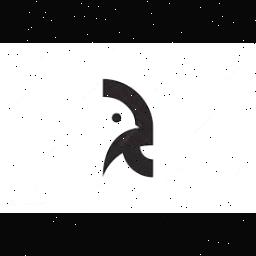r: (86, 72, 162, 180)
